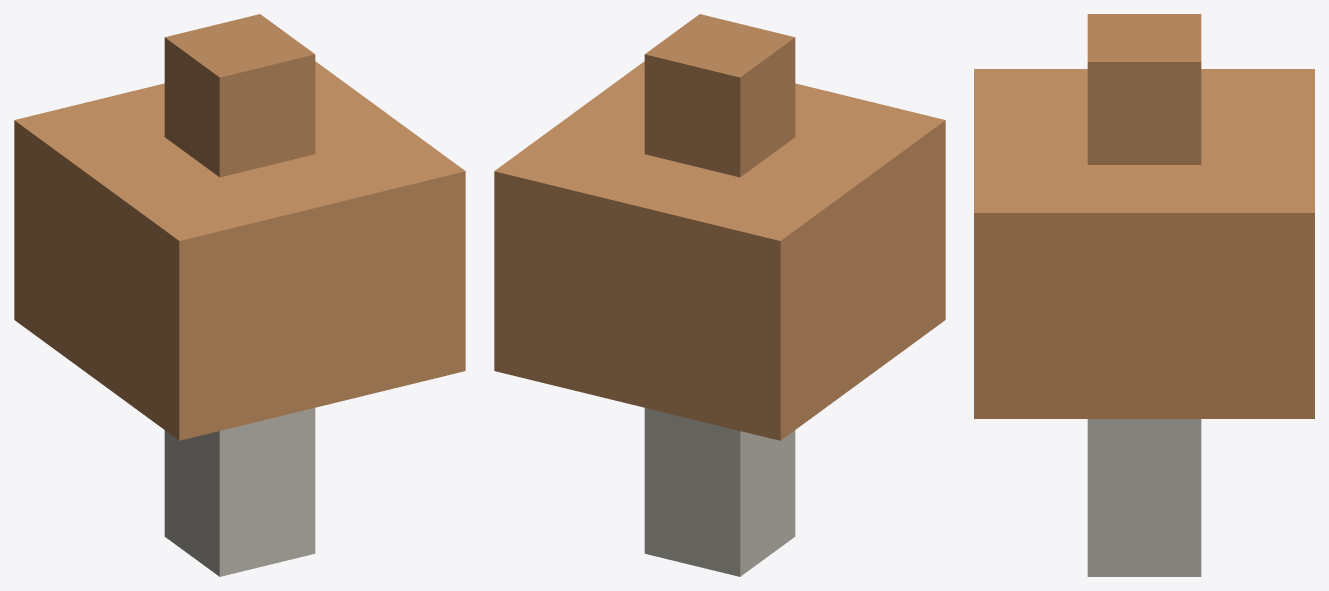
File: niscalo_01.glb
3 renders of one model, left to right at view 1: azimuth 30°, elevation 25°; view 2: azimuth 150°, elevation 25°; view 3: azimuth 270°, elevation 25°, orthographic. The views are drawn at different scales.
Visible parts, largest first — view 1: niscalo_01; view 2: niscalo_01; view 3: niscalo_01.
Part boxes in pixels (box(x1,y1,x2,y2)): niscalo_01: box(14, 14, 465, 576); niscalo_01: box(494, 14, 945, 576); niscalo_01: box(974, 14, 1314, 576).
Size of the model in its own units: 0.3 by 0.5 by 0.3.
